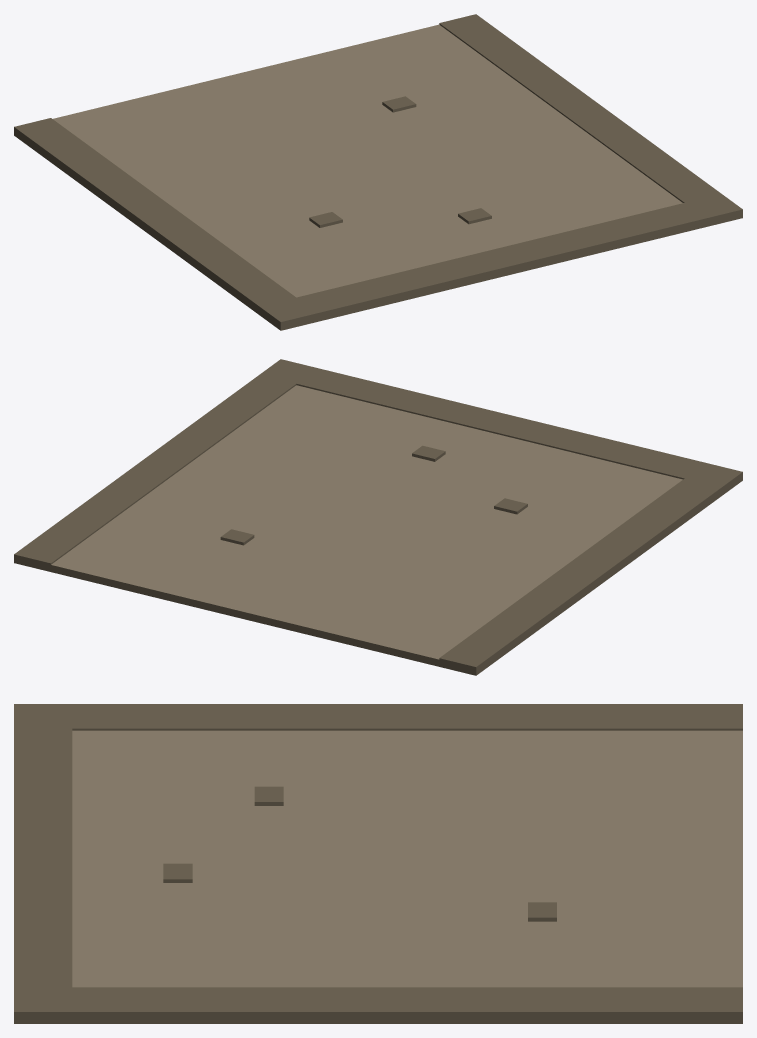
Rendered from road_end.glb.
3 views of the same model, one above another, from view 1: azimuth 30°, elevation 25°; view 2: azimuth 150°, elevation 25°; view 3: azimuth 270°, elevation 25° (orthographic). The views are drawn at different scales.
Parts seen in each view (by area): view 1: road_end; view 2: road_end; view 3: road_end.
Boxes of the visible parts, bbox=[...] form: road_end: bbox=[14, 14, 742, 330]; road_end: bbox=[14, 359, 742, 675]; road_end: bbox=[14, 704, 742, 1023].
Size of the model in its own units: 2 by 0.042 by 2.
